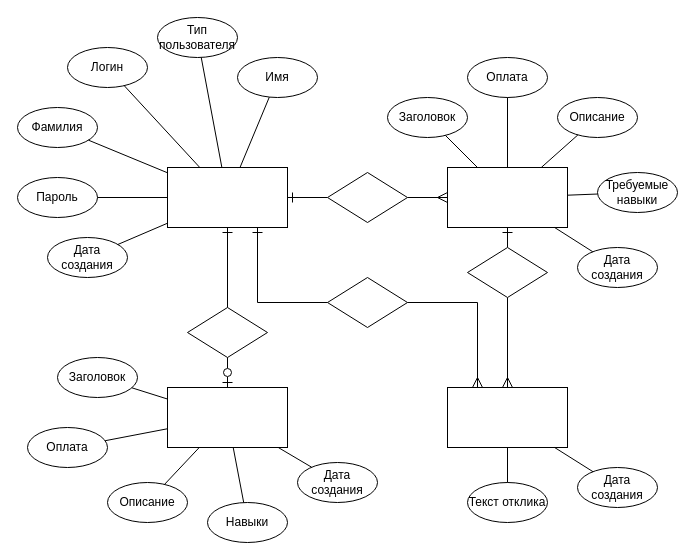
This 695x560 diagram has some shape labels left out. The box of each missing label's shape, as (x1, y1, x2, y2) in pixels:
Вакансия: (446, 166, 568, 228)
Отклик: (446, 386, 568, 448)
Пользователь: (166, 166, 288, 228)
Резюме: (166, 386, 288, 448)
